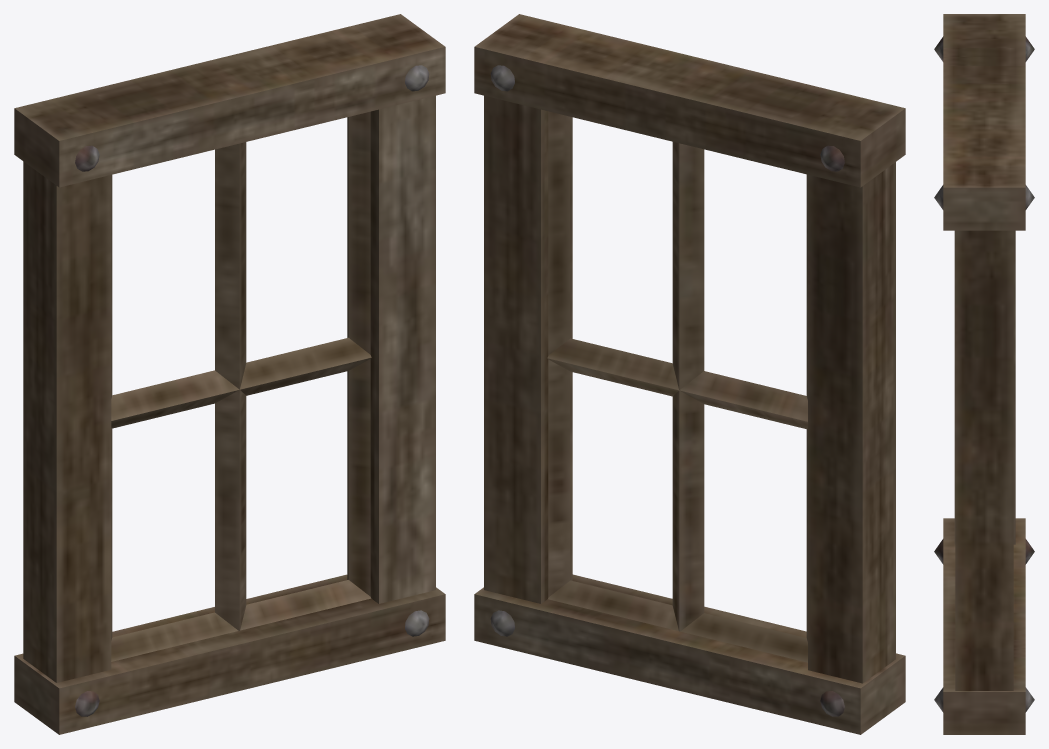
File: window_wooden_frame.glb
3 renders of one model, left to right at view 1: azimuth 30°, elevation 25°; view 2: azimuth 150°, elevation 25°; view 3: azimuth 270°, elevation 25°, orthographic. The views are drawn at different scales.
Visible parts, largest first — view 1: global_props_furniture_roughwood_window_frame_01_b; view 2: global_props_furniture_roughwood_window_frame_01_b; view 3: global_props_furniture_roughwood_window_frame_01_b.
Boxes of the visible parts, x1=… form: global_props_furniture_roughwood_window_frame_01_b: x1=14, y1=14, x2=445, y2=734; global_props_furniture_roughwood_window_frame_01_b: x1=474, y1=14, x2=905, y2=734; global_props_furniture_roughwood_window_frame_01_b: x1=934, y1=14, x2=1034, y2=734.
Bounding box in the file's own units: 1.03 × 1.52 × 0.2534.
1 material, 1 textured.
